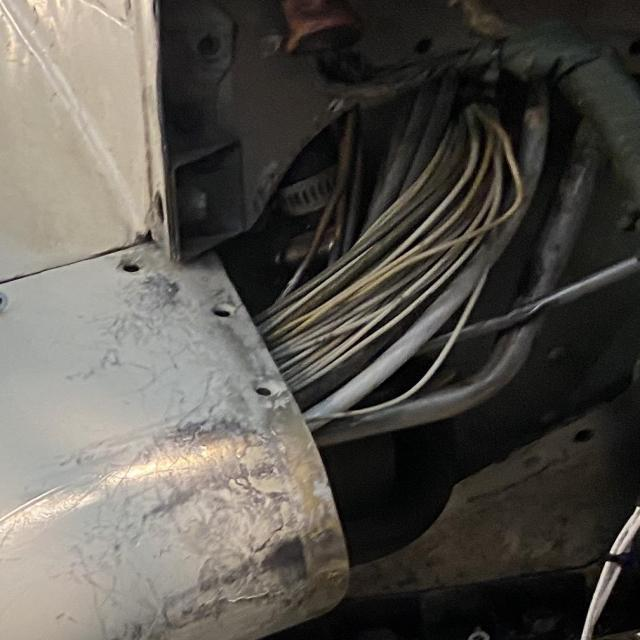Missing-head: (247, 377, 285, 402), (207, 301, 238, 321), (119, 260, 144, 276)
Scratch: (72, 410, 347, 640)
